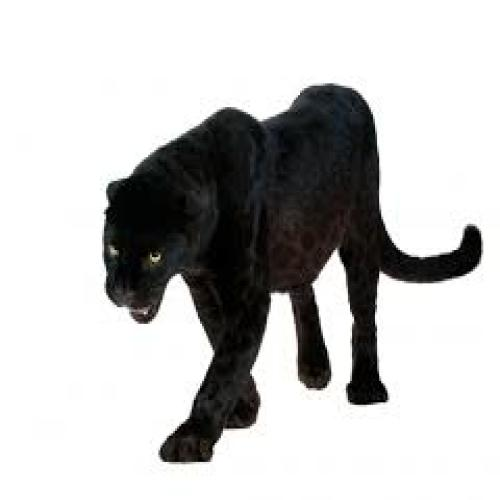panther-endangered: (99, 84, 482, 462)
